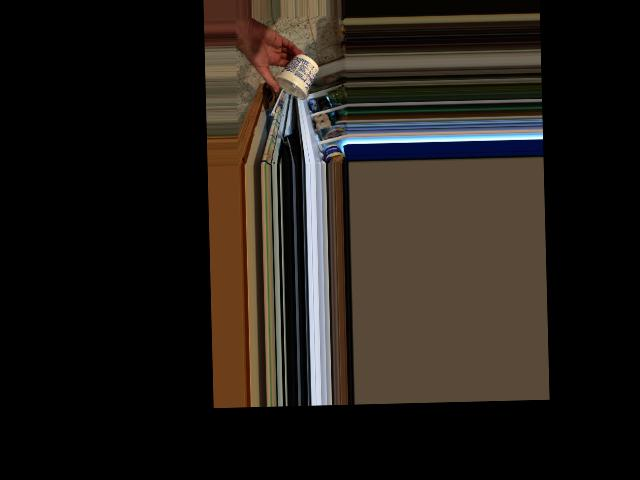cotage: (270, 52, 314, 97)
